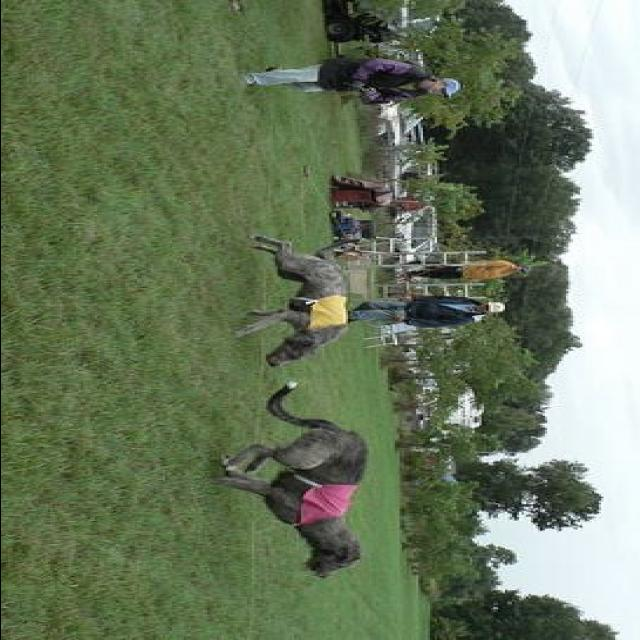irish_wolfhound: (206, 379, 378, 581), (225, 234, 368, 368)
